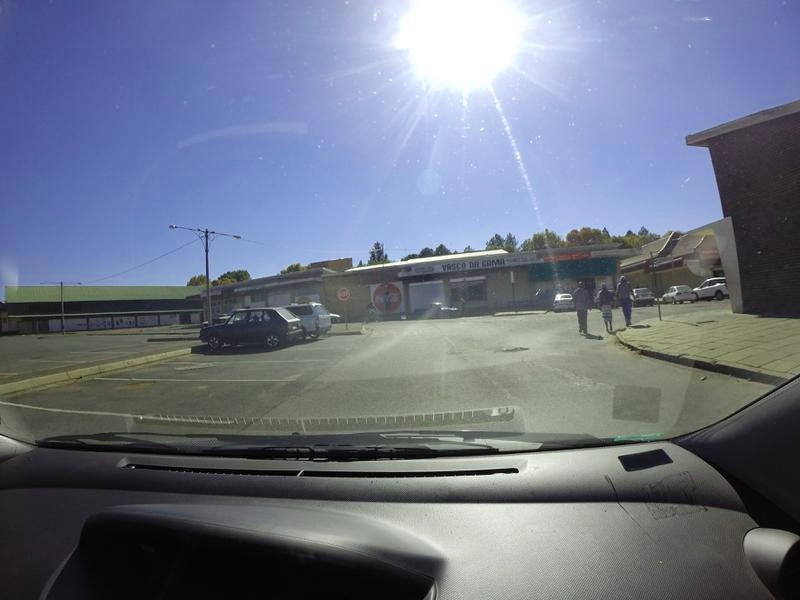pothole: (480, 340, 536, 358), (119, 375, 152, 396)
